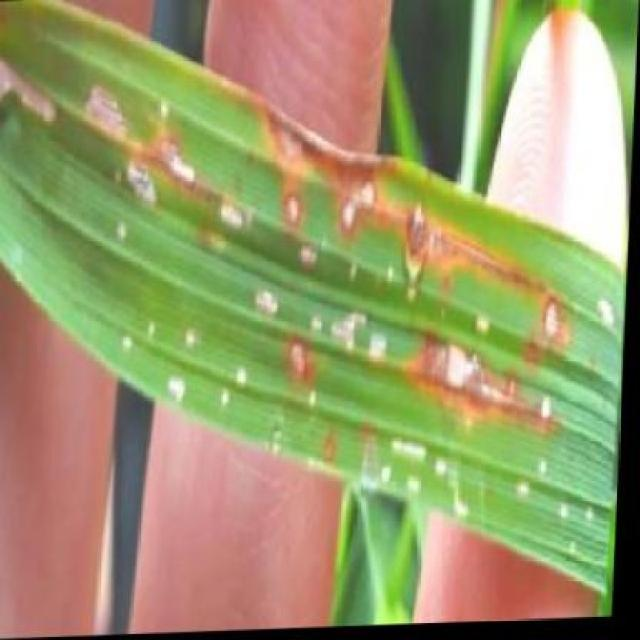Bacterial_Leaf_Blight: (255, 108, 400, 254), (115, 295, 236, 419), (396, 184, 515, 296), (514, 446, 618, 562), (412, 328, 530, 430), (382, 424, 490, 522), (121, 107, 207, 208), (326, 141, 399, 254), (71, 61, 143, 167), (254, 88, 331, 184), (100, 147, 178, 224), (526, 272, 586, 352), (303, 412, 374, 473), (523, 373, 588, 438), (255, 325, 318, 389), (243, 267, 302, 330), (264, 187, 321, 241), (218, 185, 268, 242), (590, 280, 624, 334)
